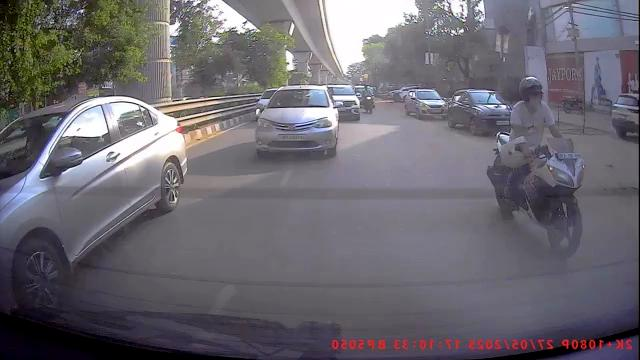motorcycle_with_helmet: (489, 74, 587, 259)
